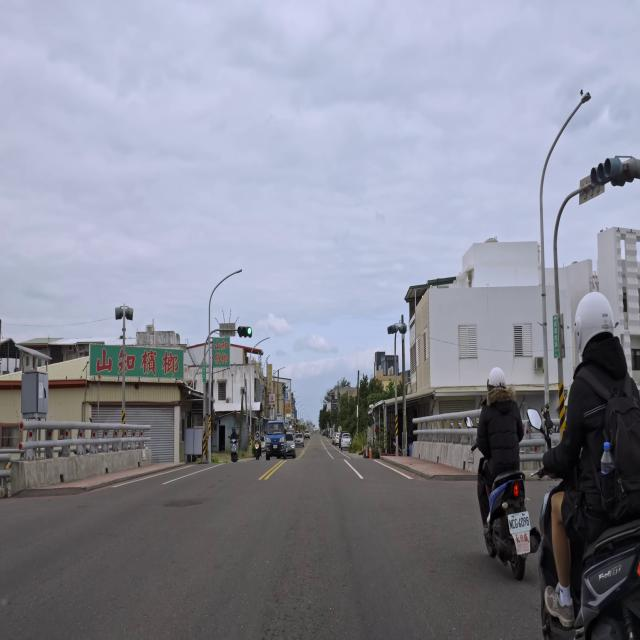green light: (237, 326, 253, 337)
